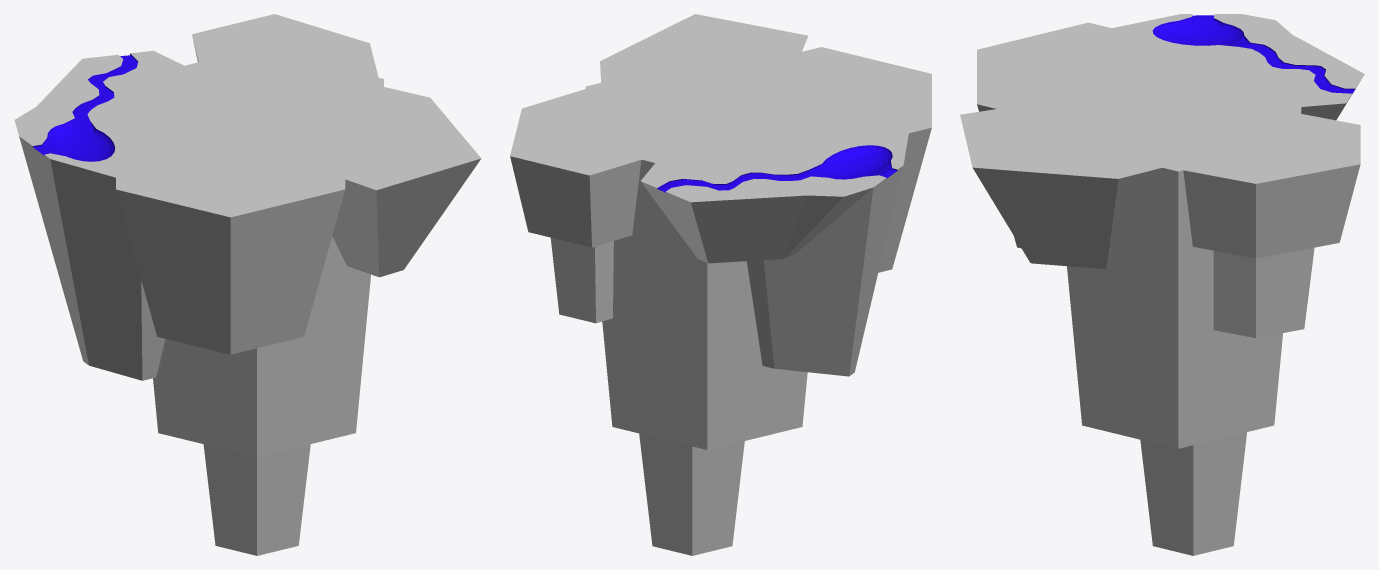
Rendered from naturePack_059_modified.fbx.
3 renders of one model, left to right at view 1: azimuth 30°, elevation 25°; view 2: azimuth 150°, elevation 25°; view 3: azimuth 270°, elevation 25°, orthographic. The views are drawn at different scales.
Visible parts, largest first — view 1: Mesh1_Group1_Model_1; view 2: Mesh1_Group1_Model_1; view 3: Mesh1_Group1_Model_1.
Part boxes in pixels (left/top/right/bottom): Mesh1_Group1_Model_1: left=14, top=14, right=481, bottom=555; Mesh1_Group1_Model_1: left=510, top=14, right=931, bottom=555; Mesh1_Group1_Model_1: left=960, top=14, right=1364, bottom=555.
Size of the model in its own units: 2.12 by 2.45 by 2.13.
